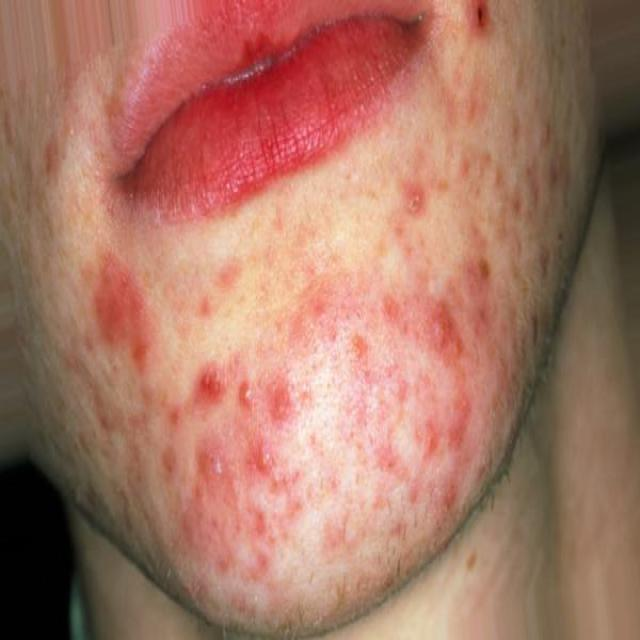acne: (80, 257, 159, 373), (174, 454, 294, 526), (376, 316, 466, 396), (408, 437, 470, 530), (196, 366, 296, 420), (394, 193, 444, 254), (455, 0, 503, 48)
